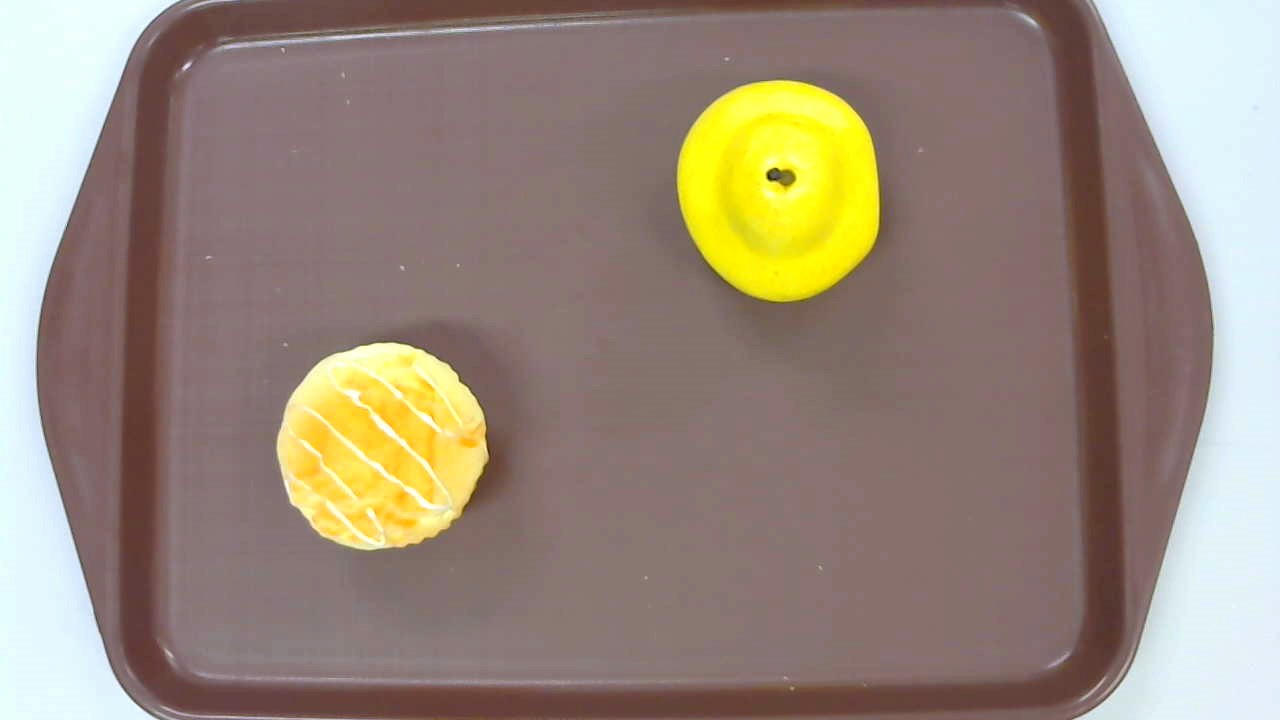cupcake: (276, 339, 492, 549)
yellow pear: (675, 79, 880, 303)
